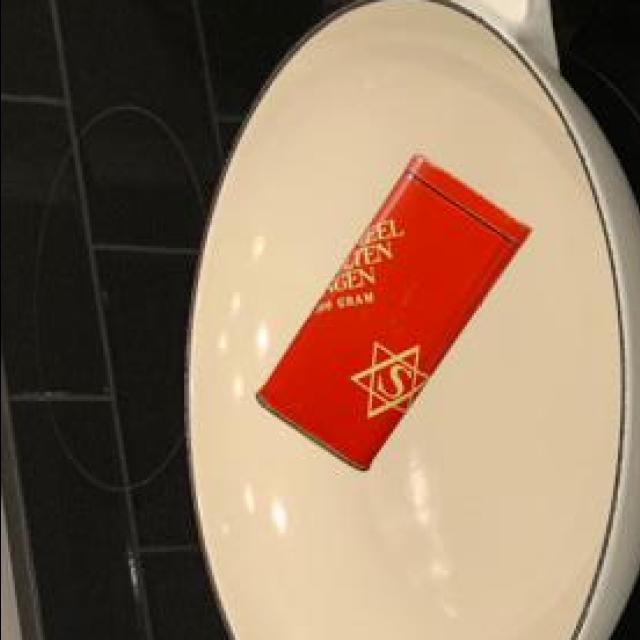logam: (252, 157, 525, 474)
